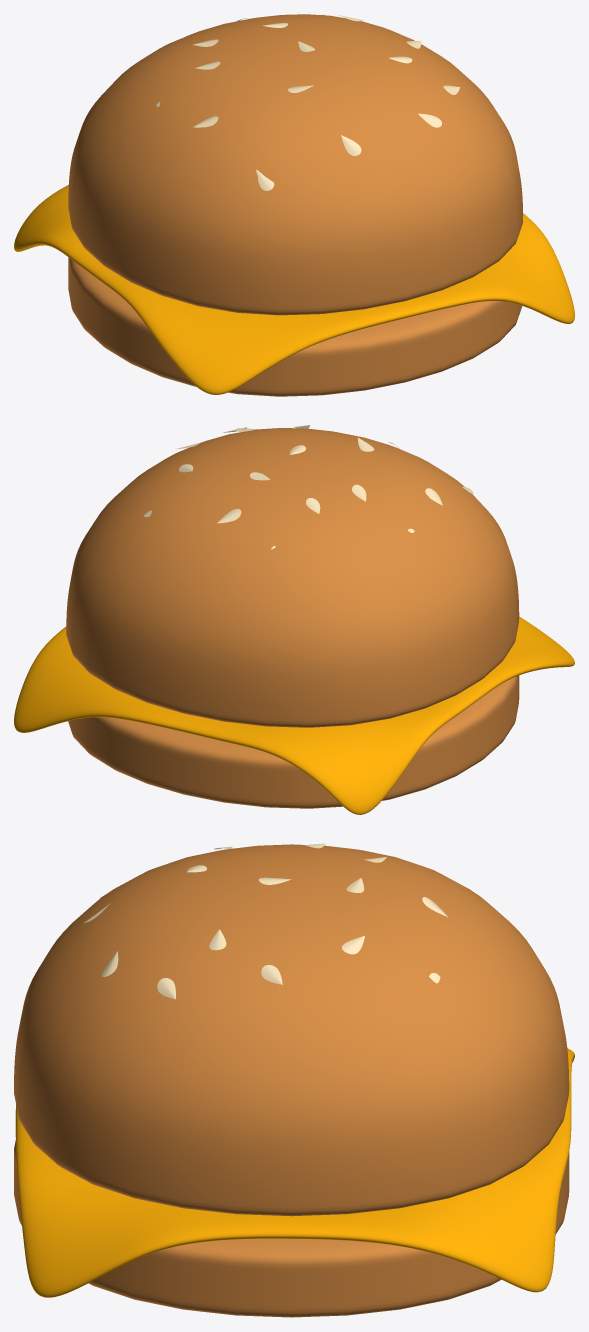
File: burger cheese.glb
The picture shows the model from 3 angles, top to bottom: view 1: azimuth 30°, elevation 25°; view 2: azimuth 150°, elevation 25°; view 3: azimuth 270°, elevation 25°; orthographic projection. The views are drawn at different scales.
Visible parts, largest first — view 1: burger cheese.002; view 2: burger cheese.002; view 3: burger cheese.002.
Part boxes in pixels (x1,y1,x2,y2): burger cheese.002: [14, 14, 574, 396]; burger cheese.002: [14, 425, 574, 814]; burger cheese.002: [14, 843, 574, 1317].
Bounding box in the file's own units: 1.2 × 0.7843 × 1.19.
